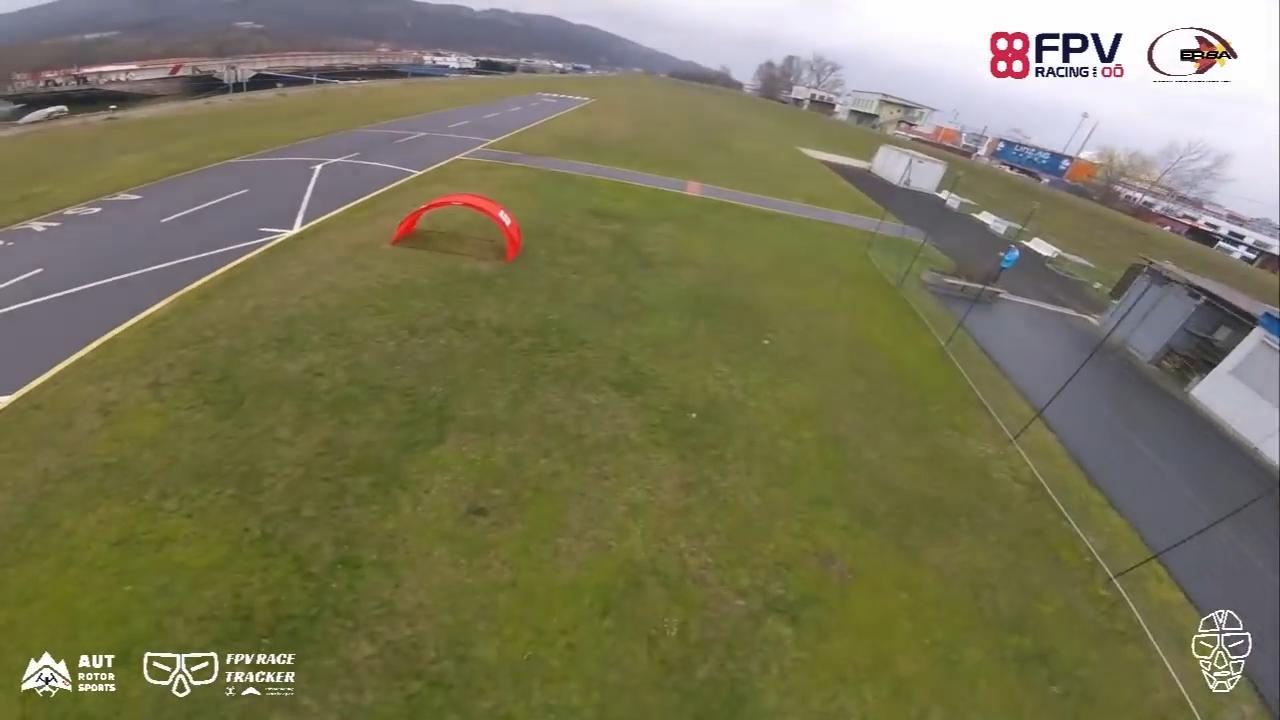gate: (388, 190, 526, 269)
